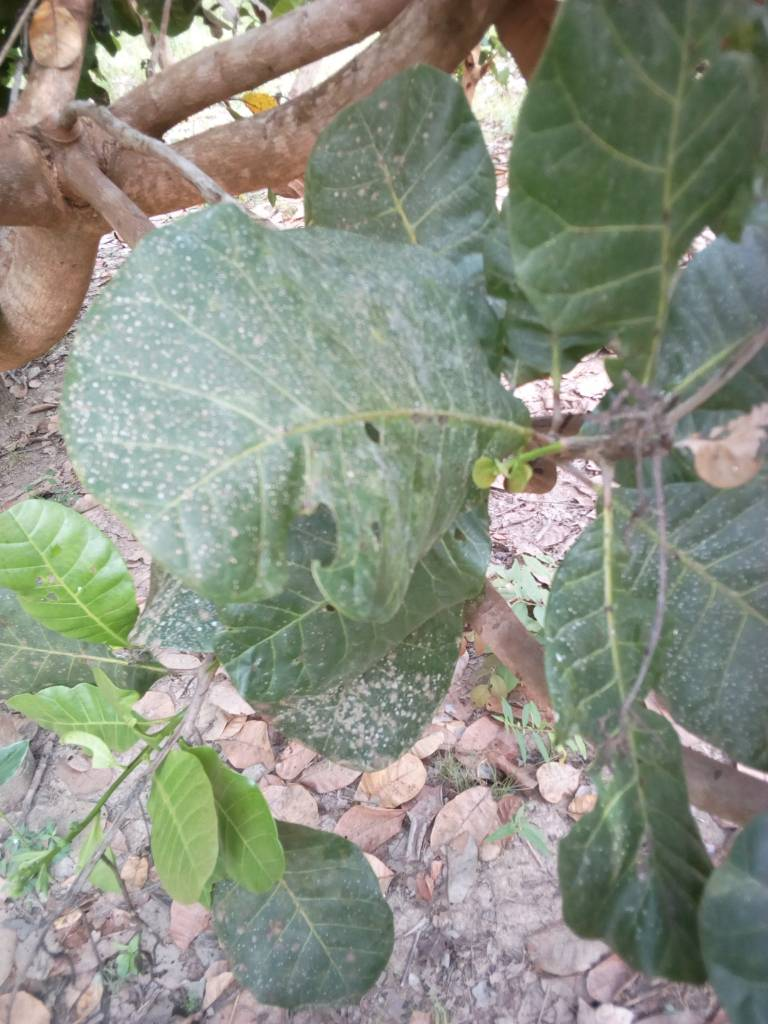Oïdium: (57, 153, 538, 636), (549, 523, 738, 981), (271, 54, 510, 288), (222, 564, 472, 777), (608, 471, 768, 791), (652, 207, 768, 455)
